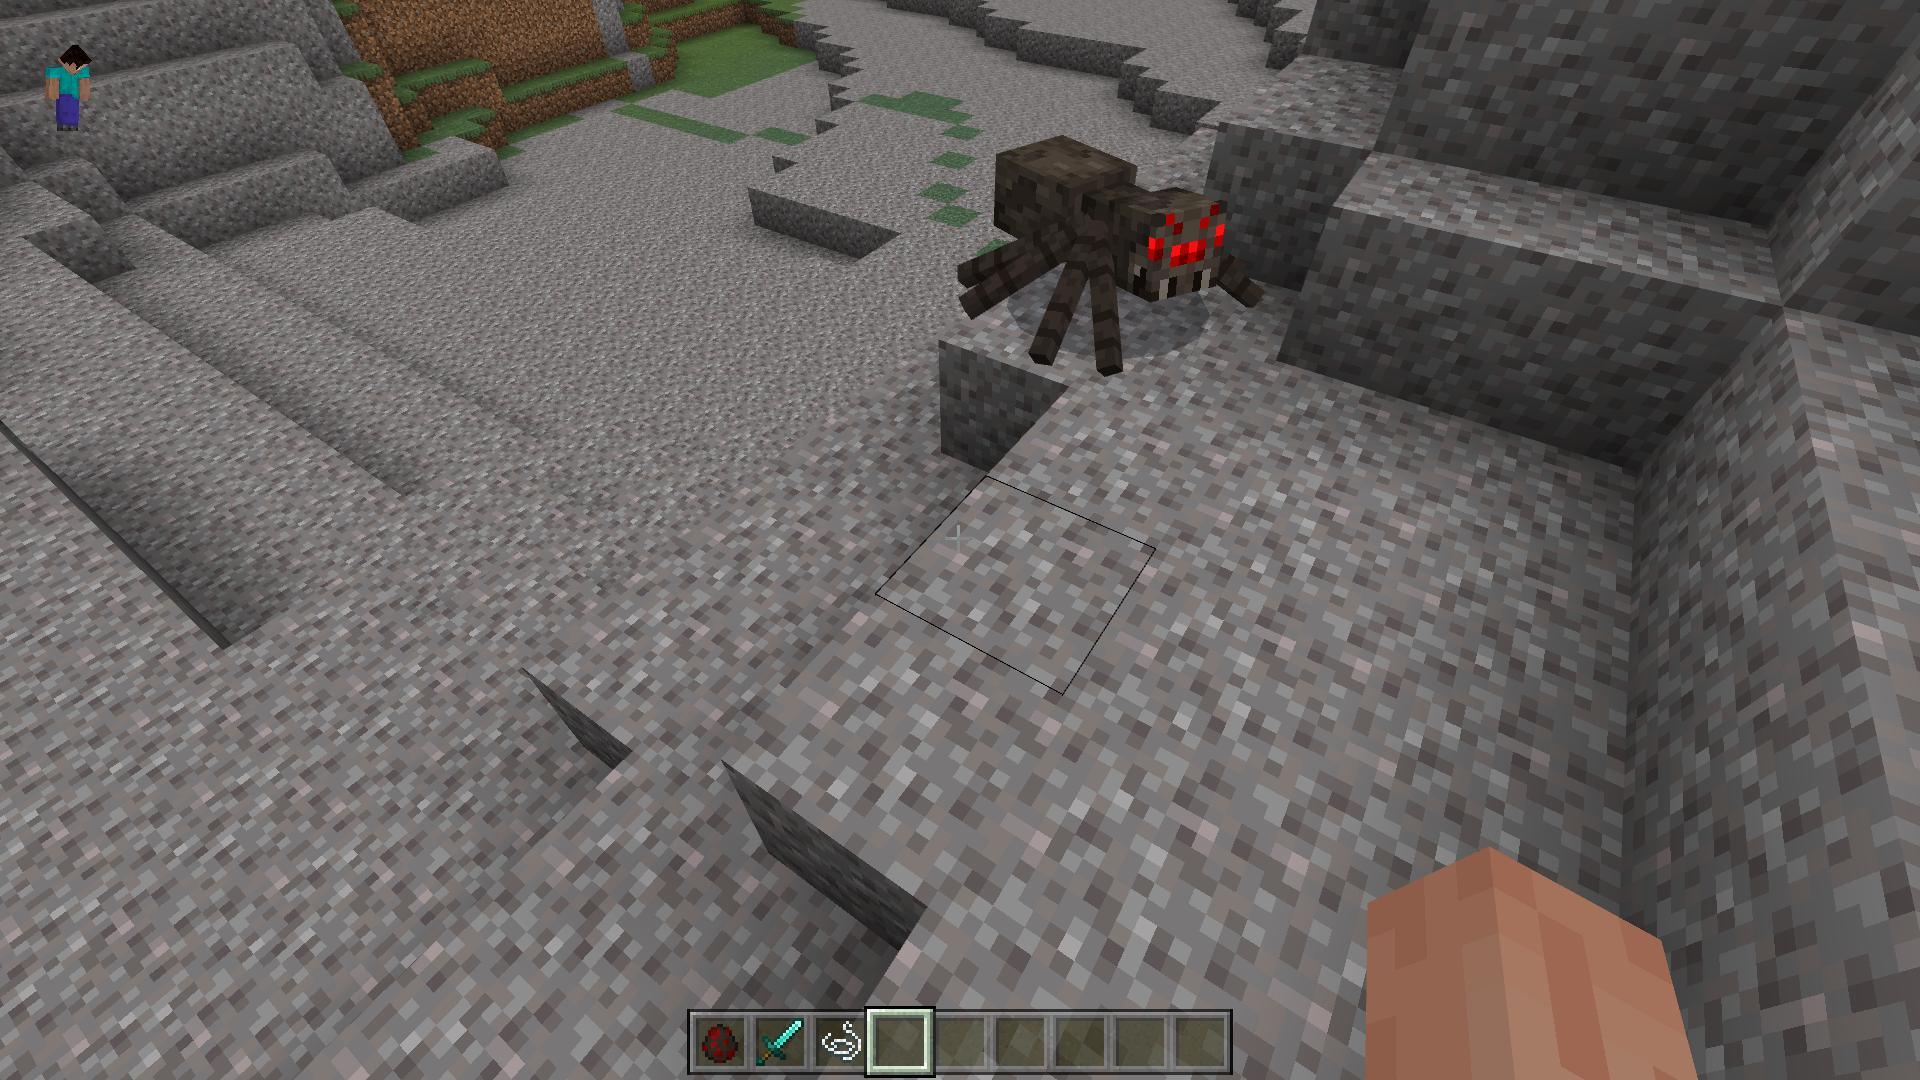spider: (948, 137, 1263, 385)
